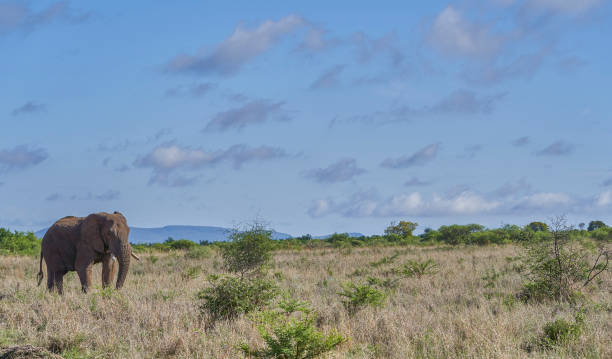africanelephant: (93, 214, 142, 273)
